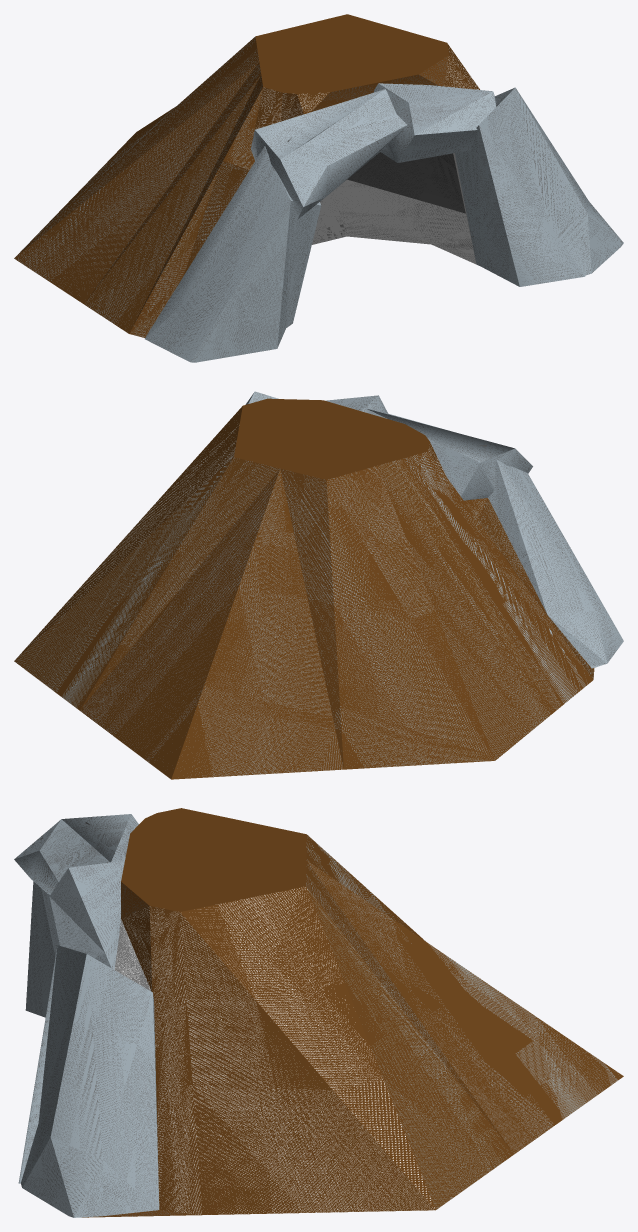
Rendered from Cave_Dirt_01.fbx.
3 renders of one model, top to bottom at view 1: azimuth 30°, elevation 25°; view 2: azimuth 150°, elevation 25°; view 3: azimuth 270°, elevation 25°, orthographic. The views are drawn at different scales.
Parts seen in each view (by area): view 1: Model; view 2: Model; view 3: Model.
Part boxes in pixels (bbox=[...]): Model: bbox=[14, 14, 623, 362]; Model: bbox=[14, 391, 623, 779]; Model: bbox=[14, 808, 623, 1217].
Bounding box in the file's own units: 1284 × 520 × 1235.
